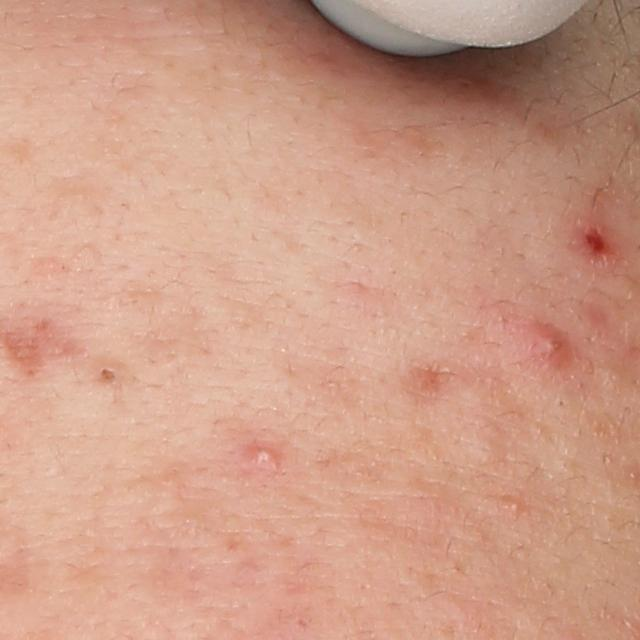comedo: (98, 364, 117, 382), (557, 398, 569, 411)
papule: (572, 216, 617, 265), (526, 325, 569, 374)
pustule: (247, 441, 281, 472)
